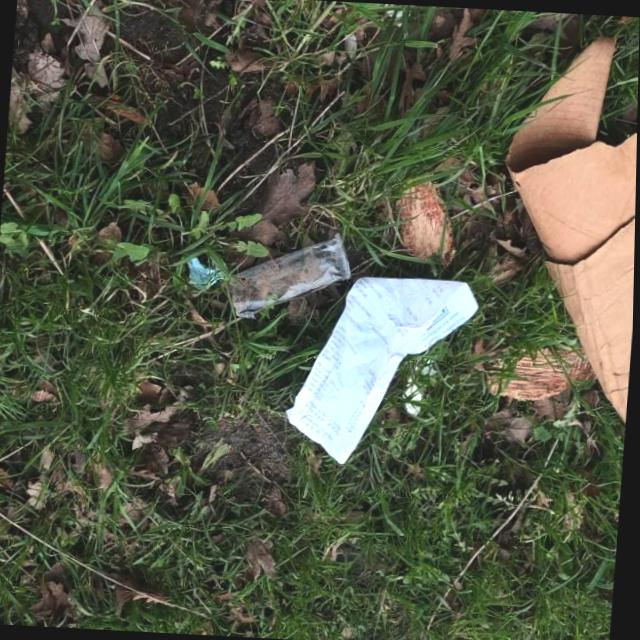Paper: (282, 270, 482, 472), (401, 353, 440, 417)
Plastic: (226, 225, 355, 325), (184, 256, 229, 294)
